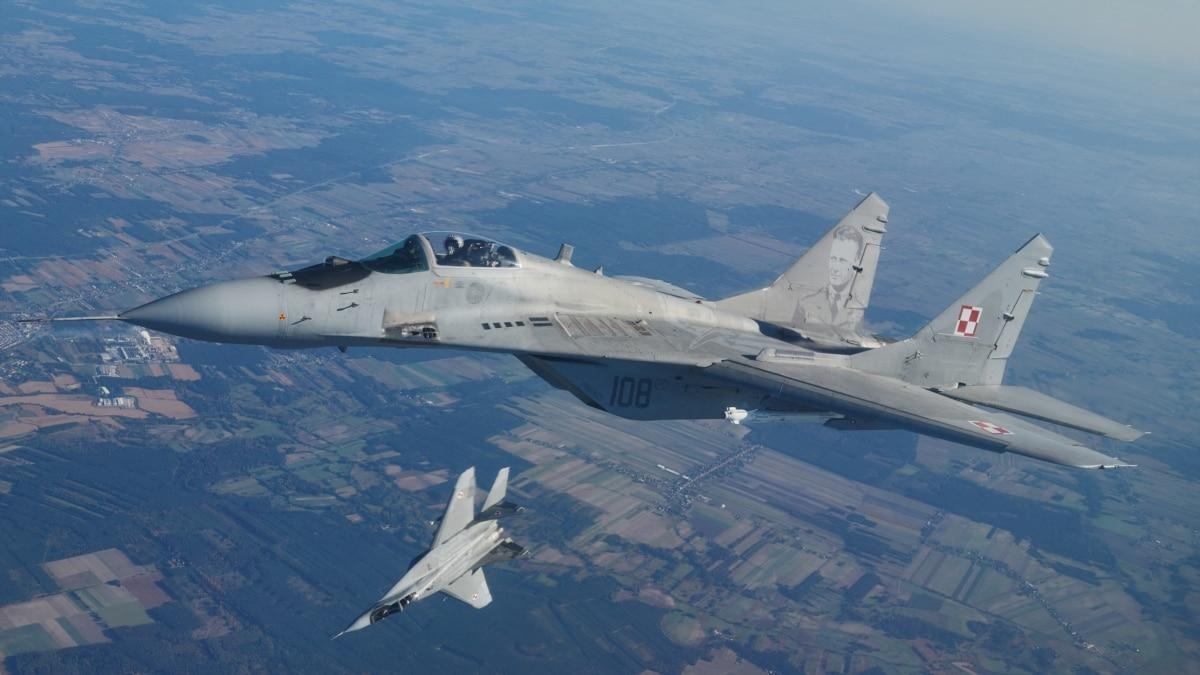aircraft: (30, 191, 1125, 642), (105, 191, 1116, 497)
